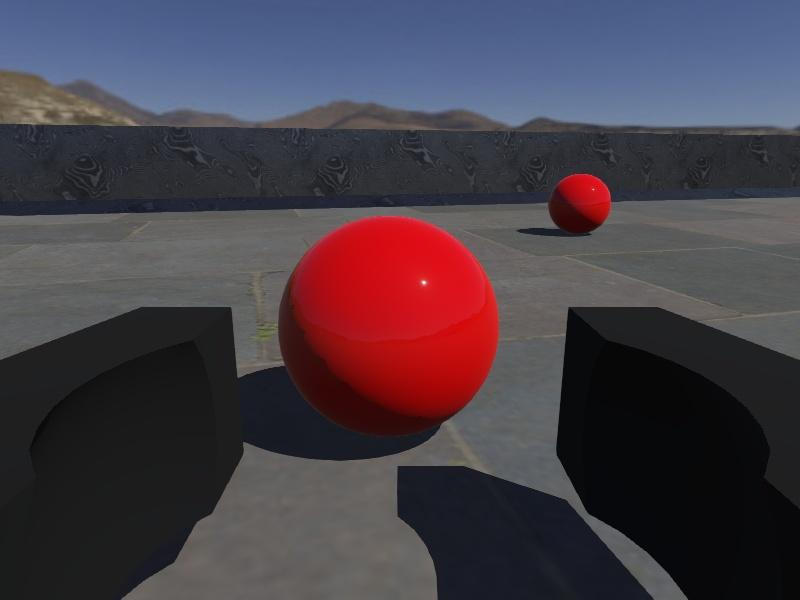red ball: (277, 214, 500, 441)
